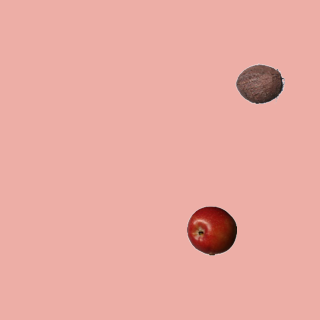Apple Braeburn: (186, 205, 236, 255)
Cocos: (234, 58, 284, 108)
